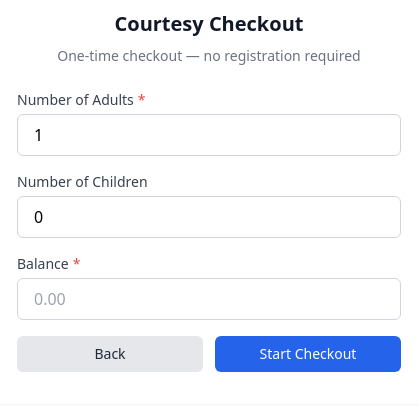
Test: OnetimeCheckoutForm › shows validation error when balance is empty
The width and height of the screenshot is (419, 413).
Click the button "Start Checkout": point(308, 354) [215, 336, 401, 372]
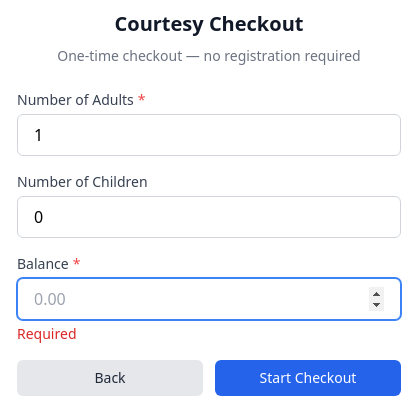
Check: the text "Required" is shown, box [17, 324, 76, 343]
